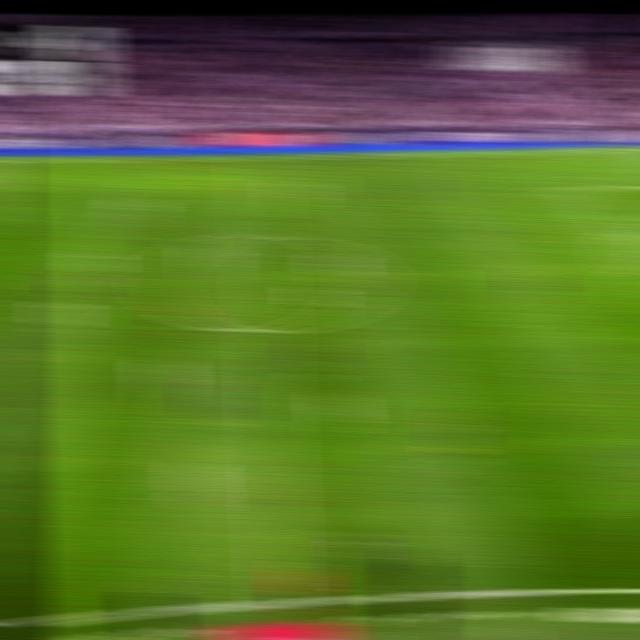bigarea_top_inner: (563, 181, 595, 195)
halfcircle_bottom: (248, 316, 285, 343)
halfcircle_top: (244, 222, 280, 244)
midline_bottom_intersection: (260, 586, 298, 612)
midline_top_intersection: (242, 150, 274, 165)
top_arc_area_intersection: (615, 223, 640, 238)
